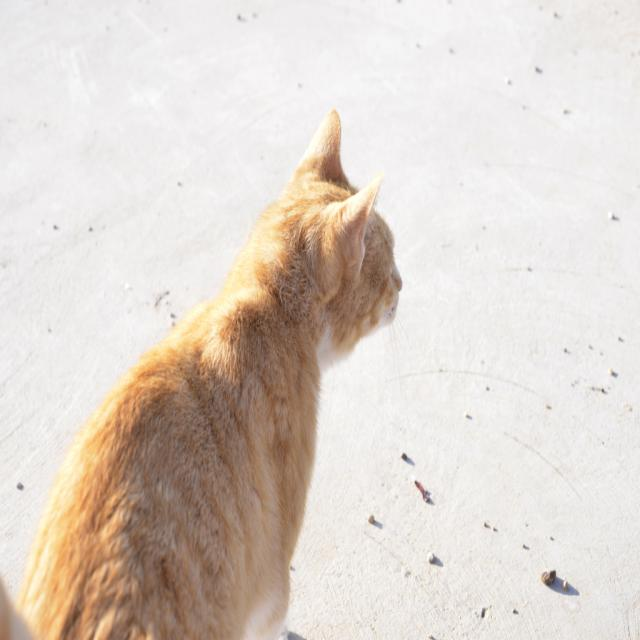Cat: (0, 107, 401, 638)
